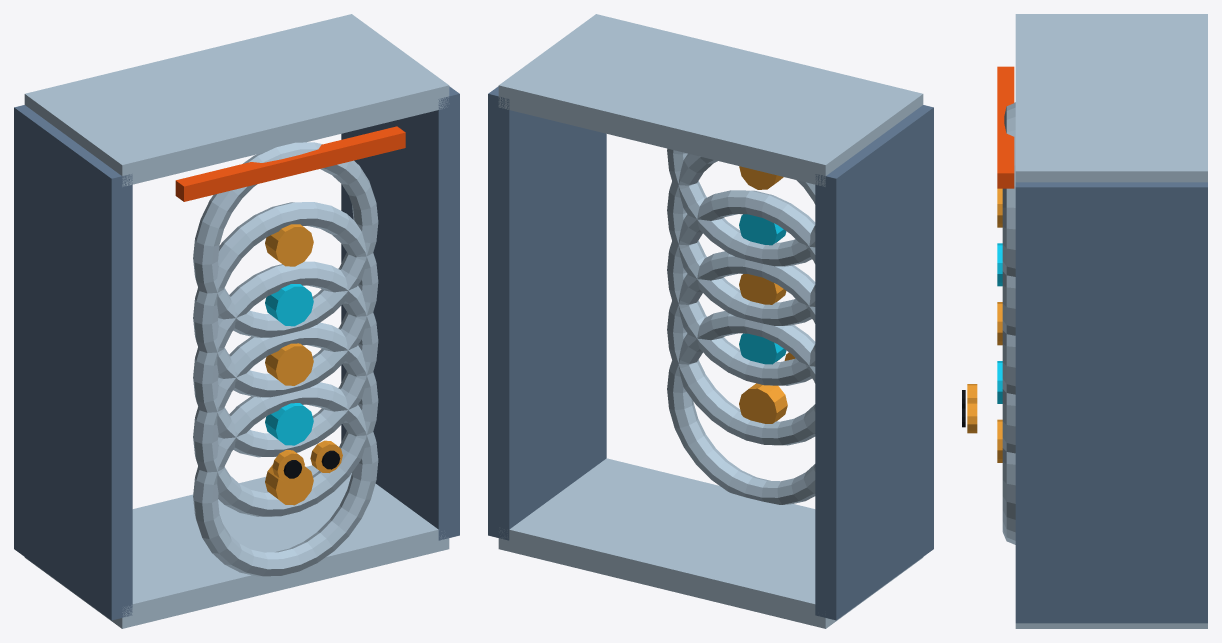
The model's file is 16_L89_HeavyIonChannelDetector.fbx.
3 renders of one model, left to right at view 1: azimuth 30°, elevation 25°; view 2: azimuth 150°, elevation 25°; view 3: azimuth 270°, elevation 25°, orthographic.
Visible parts, largest first — view 1: L87_HeavyIonChannelDetector_Part_0000, L87_HeavyIonChannelDetector_Part_0001, L87_HeavyIonChannelDetector_Part_0002, L87_HeavyIonChannelDetector_Part_0005, L87_HeavyIonChannelDetector_Part_0003, L87_HeavyIonChannelDetector_Part_0004; view 2: L87_HeavyIonChannelDetector_Part_0000, L87_HeavyIonChannelDetector_Part_0001, L87_HeavyIonChannelDetector_Part_0002, L87_HeavyIonChannelDetector_Part_0003, L87_HeavyIonChannelDetector_Part_0004; view 3: L87_HeavyIonChannelDetector_Part_0000, L87_HeavyIonChannelDetector_Part_0001, L87_HeavyIonChannelDetector_Part_0002, L87_HeavyIonChannelDetector_Part_0005, L87_HeavyIonChannelDetector_Part_0003, L87_HeavyIonChannelDetector_Part_0004.
Part boxes in pixels (<box>): L87_HeavyIonChannelDetector_Part_0000: <box>14,86,459,620</box>; L87_HeavyIonChannelDetector_Part_0001: <box>24,14,449,628</box>; L87_HeavyIonChannelDetector_Part_0002: <box>193,142,378,576</box>; L87_HeavyIonChannelDetector_Part_0005: <box>175,126,405,201</box>; L87_HeavyIonChannelDetector_Part_0003: <box>265,224,313,505</box>; L87_HeavyIonChannelDetector_Part_0004: <box>265,284,313,445</box>; L87_HeavyIonChannelDetector_Part_0000: <box>488,86,933,620</box>; L87_HeavyIonChannelDetector_Part_0001: <box>498,14,923,628</box>; L87_HeavyIonChannelDetector_Part_0002: <box>667,148,815,504</box>; L87_HeavyIonChannelDetector_Part_0003: <box>739,166,787,423</box>; L87_HeavyIonChannelDetector_Part_0004: <box>739,214,786,364</box>; L87_HeavyIonChannelDetector_Part_0000: <box>1015,182,1207,623</box>; L87_HeavyIonChannelDetector_Part_0001: <box>1015,14,1207,628</box>; L87_HeavyIonChannelDetector_Part_0002: <box>1002,102,1015,544</box>; L87_HeavyIonChannelDetector_Part_0005: <box>997,66,1014,188</box>; L87_HeavyIonChannelDetector_Part_0003: <box>997,188,1002,462</box>; L87_HeavyIonChannelDetector_Part_0004: <box>997,243,1002,403</box>.
Size of the model in its own units: 165 by 210 by 102.
